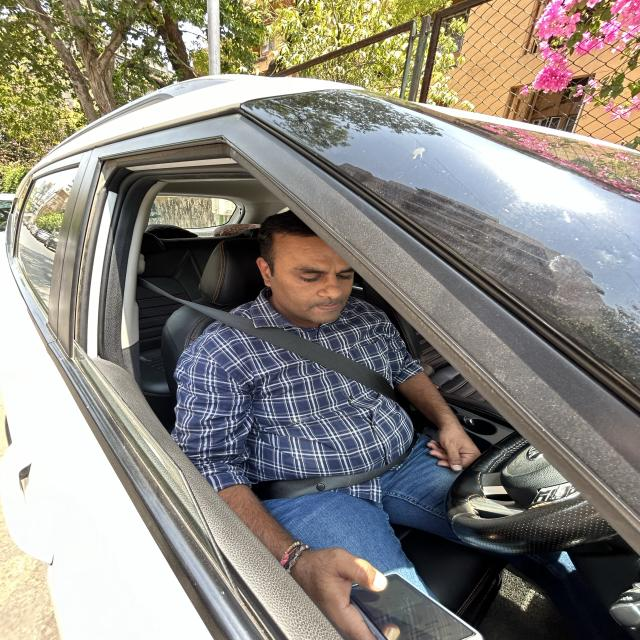seatbelt: (155, 276, 430, 504)
